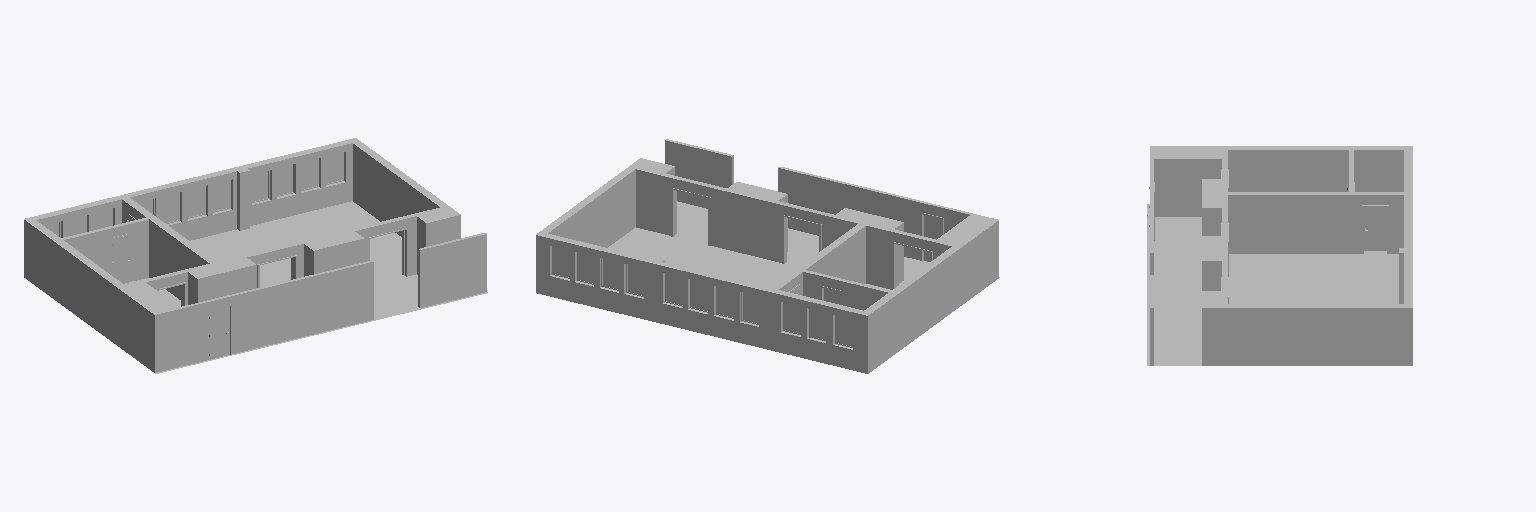
File: Rest.obj
3 renders of one model, left to right at view 1: azimuth 30°, elevation 25°; view 2: azimuth 150°, elevation 25°; view 3: azimuth 270°, elevation 25°, orthographic.
Parts seen in each view (by area): view 1: wall_12_25, ground_1, wall_3_7, wall_6_13, wall_13_27, wall_4_9, wall_8_16, wall_5_11, wall_2_5, wall_1_3, wall_9_19, wall_10_21 (+4 smaller); view 2: wall_3_6, wall_2_4, ground_1, wall_6_13, wall_12_24, wall_4_9, wall_8_16, wall_13_26, wall_5_11, wall_11_22, wall_1_2, wall_3_7 (+1 smaller); view 3: ground_1, wall_4_8, wall_5_10, wall_6_12, wall_8_17, Porte_32, wall_11_23, wall_11_22, wall_3_6, wall_9_19, wall_10_21, wall_3_7.
Part boxes in pixels (x1,y1,x2,y2): wall_12_25: (154, 261, 373, 372); ground_1: (25, 201, 487, 373); wall_3_7: (26, 141, 353, 240); wall_6_13: (26, 220, 120, 343); wall_13_27: (419, 233, 486, 307); wall_4_9: (353, 141, 443, 236); wall_8_16: (116, 283, 165, 371); wall_5_11: (121, 197, 212, 299); wall_2_5: (131, 215, 416, 304); wall_1_3: (59, 218, 151, 281); wall_9_19: (191, 260, 256, 303); wall_10_21: (307, 234, 364, 275); wall_3_6: (536, 234, 869, 373); wall_2_4: (662, 175, 946, 289); ground_1: (608, 201, 999, 363); wall_6_13: (867, 246, 961, 371); wall_12_24: (778, 167, 997, 278); wall_4_9: (543, 167, 636, 247); wall_8_16: (947, 218, 996, 305); wall_13_26: (665, 140, 732, 208); wall_5_11: (773, 224, 865, 295); wall_11_22: (630, 163, 668, 233); wall_1_2: (800, 270, 892, 310); wall_3_7: (543, 234, 870, 313); ground_1: (1147, 204, 1398, 365); wall_4_8: (1228, 306, 1412, 365); wall_5_10: (1225, 194, 1407, 253); wall_6_12: (1228, 148, 1403, 191); wall_8_17: (1152, 152, 1226, 216); Porte_32: (1364, 207, 1386, 250); wall_11_23: (1202, 291, 1214, 365); wall_11_22: (1215, 291, 1227, 365); wall_3_6: (1408, 146, 1412, 307); wall_9_19: (1202, 179, 1214, 235); wall_10_21: (1202, 236, 1214, 290); wall_3_7: (1404, 146, 1407, 305).
Size of the model in its own units: 1497 by 250 by 1033.